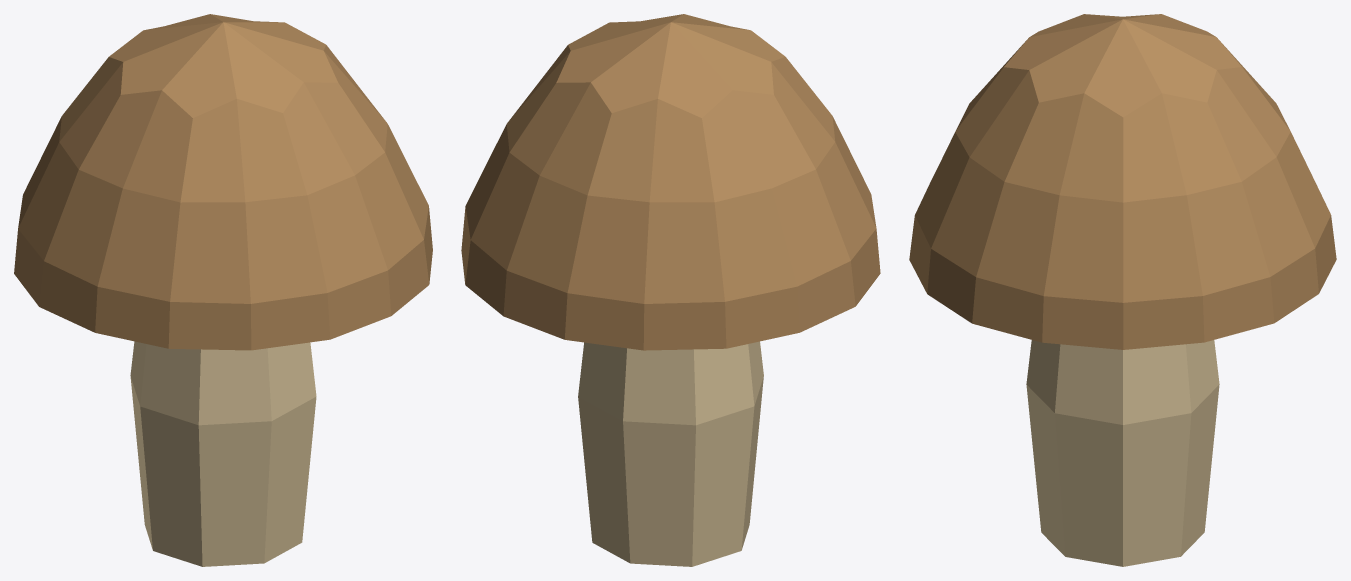
Rendered from Mushroom_14.fbx.
The picture shows the model from 3 angles, left to right: view 1: azimuth 30°, elevation 25°; view 2: azimuth 150°, elevation 25°; view 3: azimuth 270°, elevation 25°; orthographic projection.
Visible parts, largest first — view 1: Mushroom_14; view 2: Mushroom_14; view 3: Mushroom_14.
Boxes of the visible parts, x1,y1,x2,y2 form: Mushroom_14: (14,14,432,566); Mushroom_14: (461,14,880,566); Mushroom_14: (909,14,1336,566).
Size of the model in its own units: 12.46 by 16.5 by 12.46.
